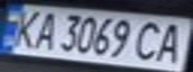0: (75, 12, 96, 55)
3: (54, 10, 81, 53)
6: (90, 15, 118, 57)
9: (109, 16, 139, 60)
A: (151, 19, 190, 64), (30, 8, 60, 52)
C: (130, 19, 169, 62)
K: (6, 7, 45, 50)
